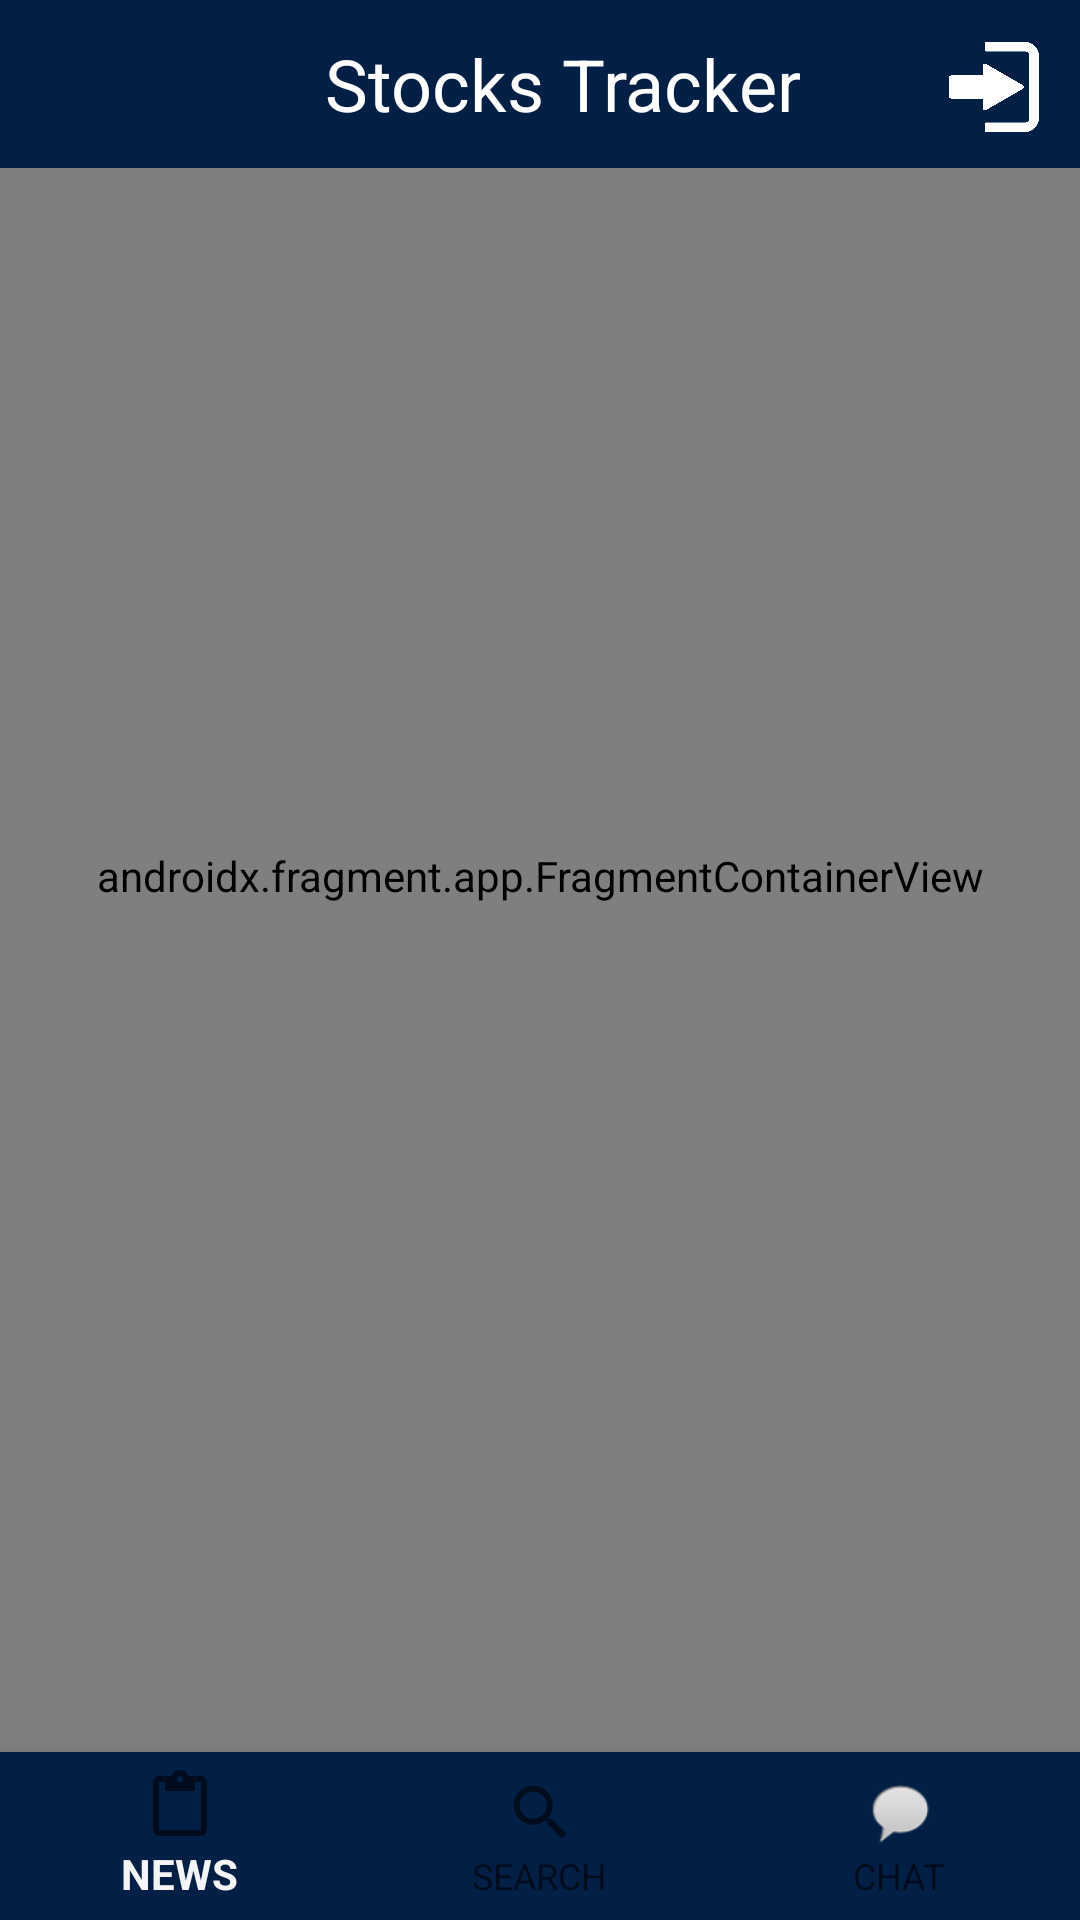

Locate icon controls on the screen. Image size 1080w x 1920h, boxes as (x1, y1, x2, y2).
login: (949, 42, 1039, 132)
